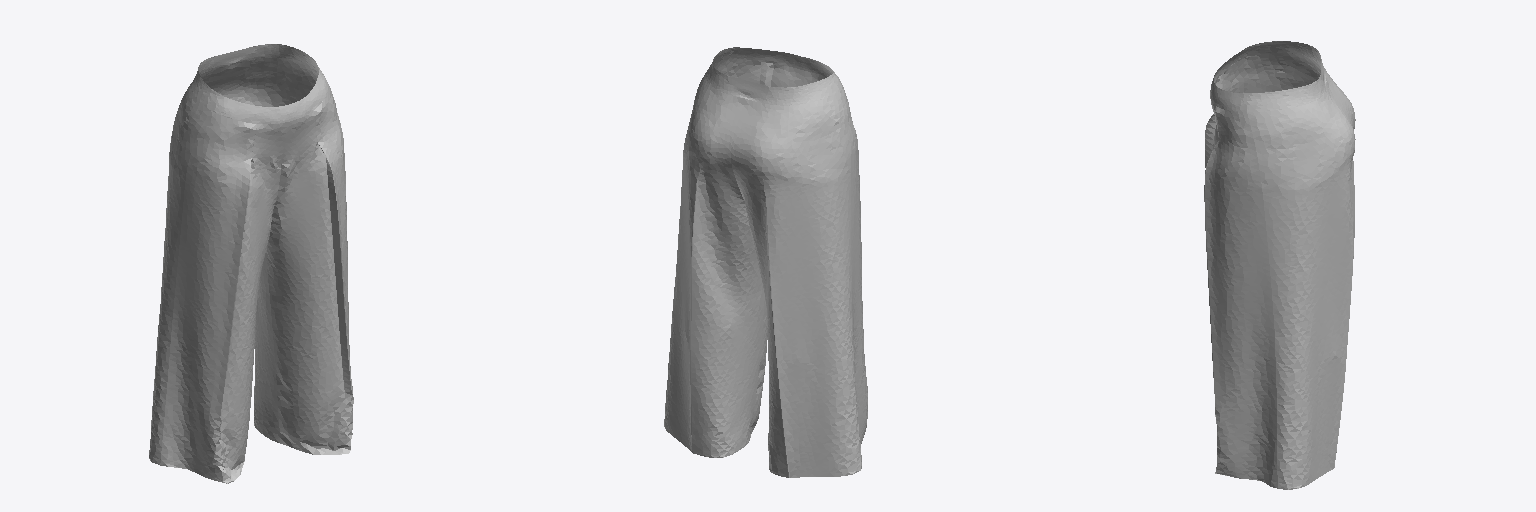
File: Medium_Average.obj
3 views of the same model, side by side, from view 1: azimuth 30°, elevation 25°; view 2: azimuth 150°, elevation 25°; view 3: azimuth 270°, elevation 25° (orthographic).
Parts seen in each view (by area): view 1: changku.002; view 2: changku.002; view 3: changku.002.
Boxes of the visible parts, <box> form: changku.002: <box>149,44,353,483</box>; changku.002: <box>664,47,867,477</box>; changku.002: <box>1204,41,1355,489</box>.
Bounding box in the file's own units: 0.5139 × 0.9545 × 0.3421.